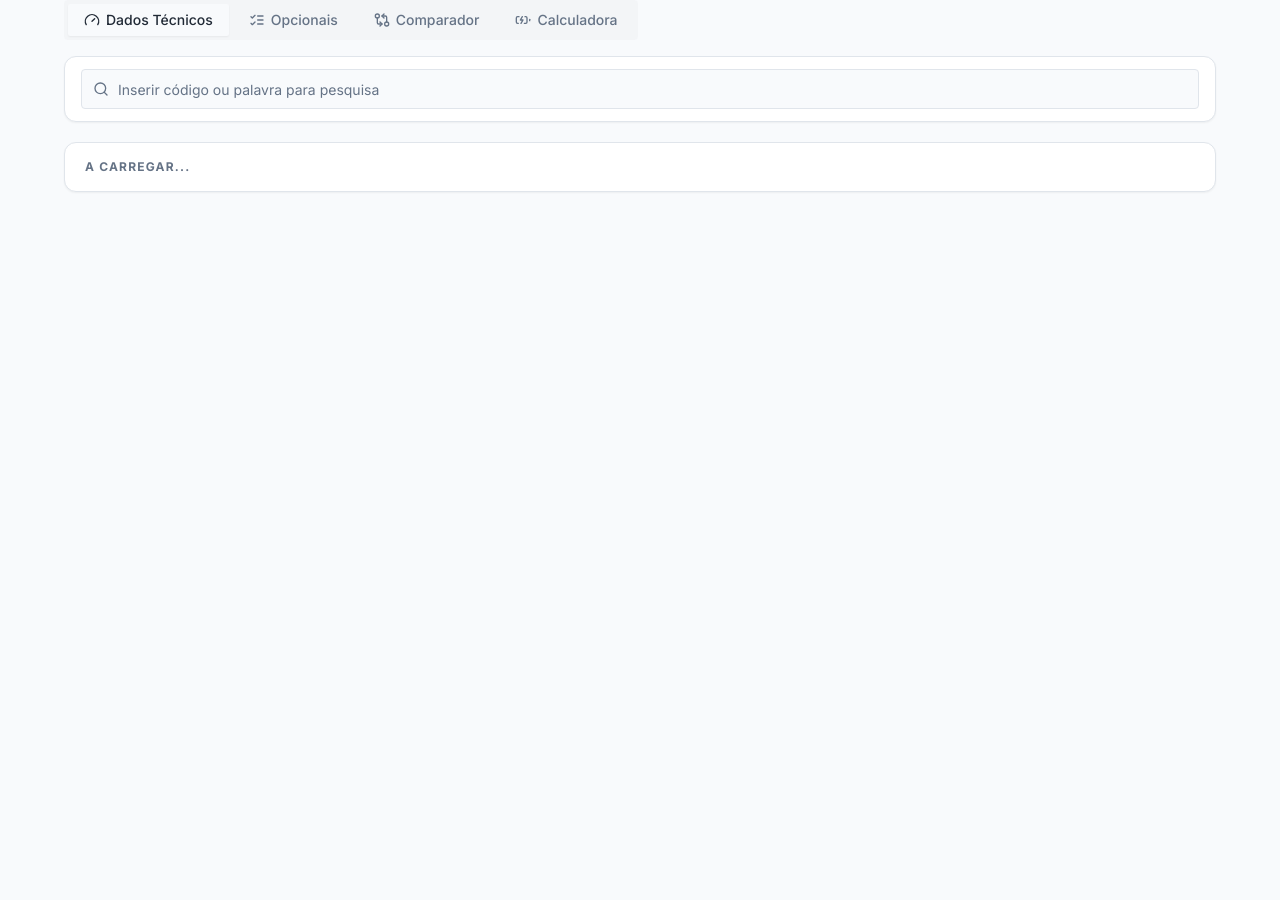
Test: Página Produto › Calculadora: mostra o tempo com os valores por defeito
Press the mouse on the tab "Calculadora" at (566, 20), box [499,4,634,36]
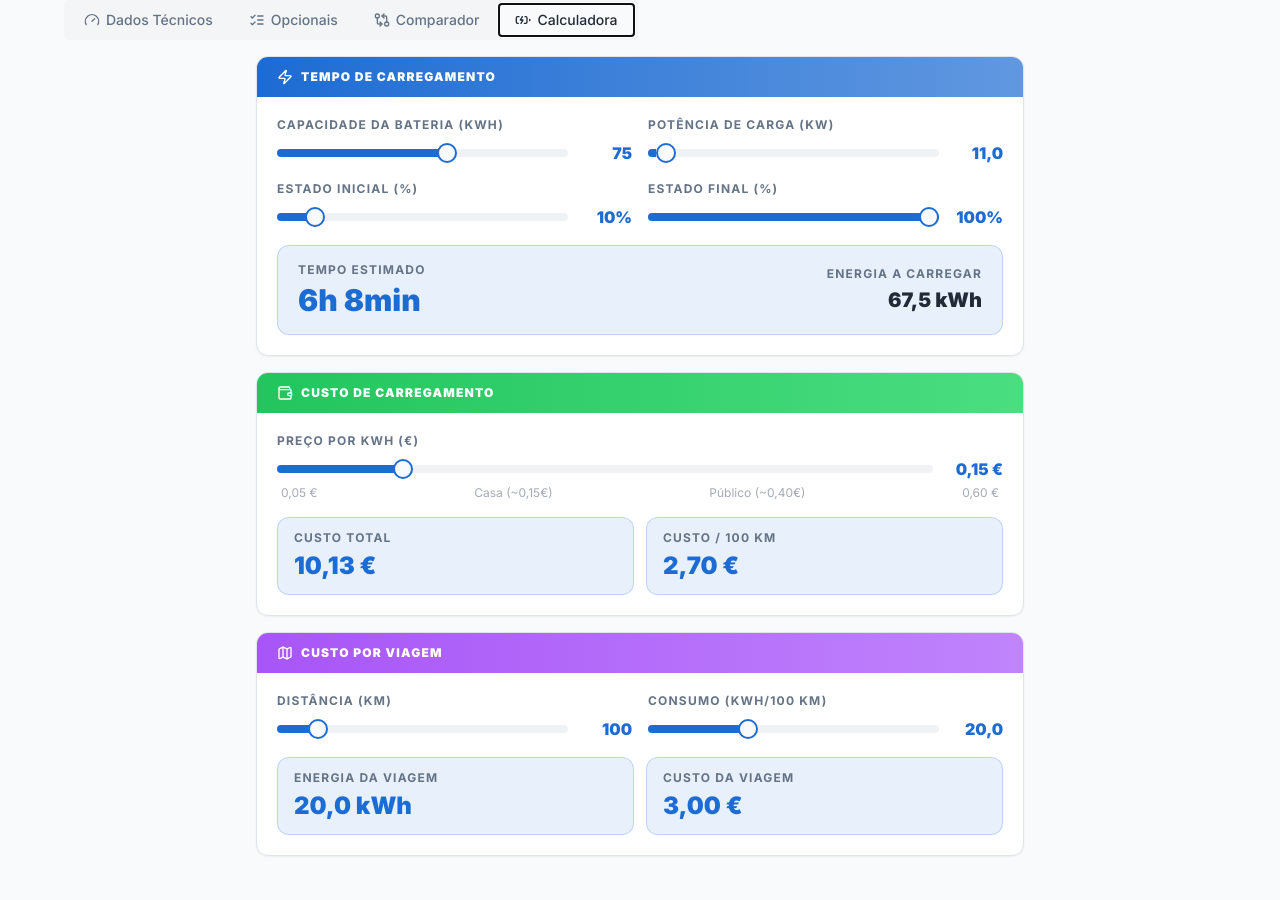
Expected: the text with test id "calc-tempo" reads "6h 8min", [298,282,421,318]
